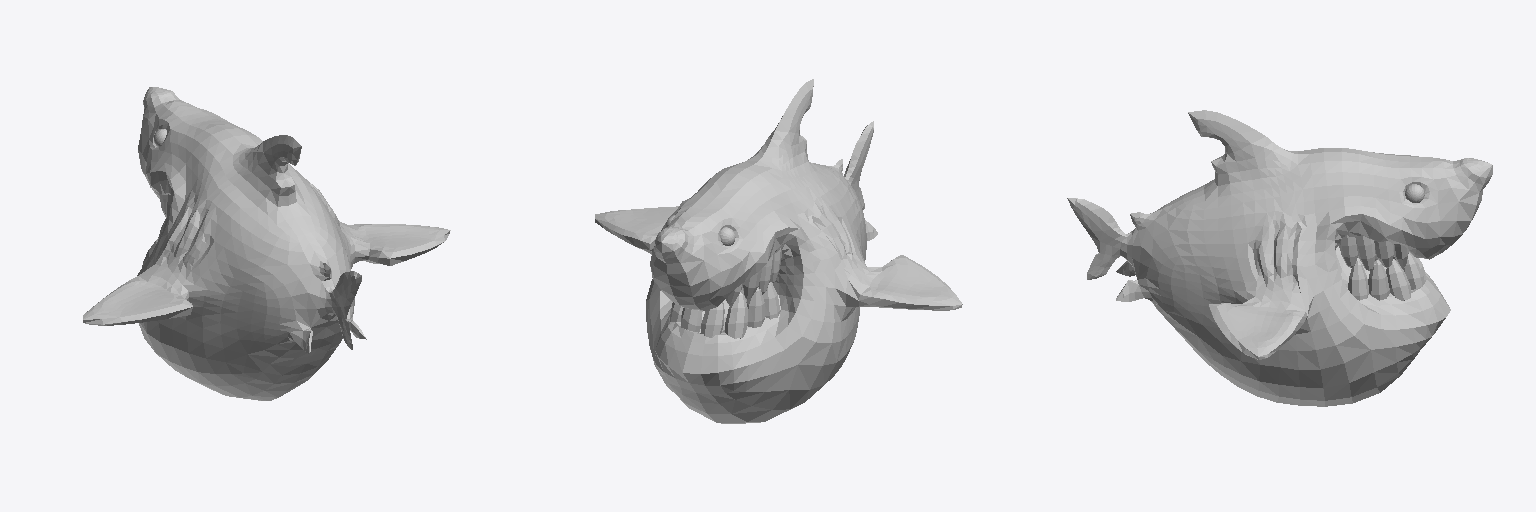
File: scruffyShark.obj
The picture shows the model from 3 angles: view 1: azimuth 30°, elevation 25°; view 2: azimuth 150°, elevation 25°; view 3: azimuth 270°, elevation 25°; orthographic projection.
Parts seen in each view (by area): view 1: body_GEO Geometry ScruffyShark; view 2: body_GEO Geometry ScruffyShark, Geometry ScruffyShark teeth_GEO tooth_bottom_2_L_GEO, Geometry ScruffyShark tooth_bottom_1_L_GEO teeth_GEO, Geometry ScruffyShark teeth_GEO tooth_bottom_3_L_GEO; view 3: body_GEO Geometry ScruffyShark, Geometry ScruffyShark teeth_GEO tooth_bottom_2_R_GEO, Geometry ScruffyShark teeth_GEO tooth_bottom_3_R_GEO, Geometry ScruffyShark teeth_GEO tooth_bottom_4_R_GEO.
Part boxes in pixels (x1,y1,x2,y2): body_GEO Geometry ScruffyShark: (83, 87, 450, 400); body_GEO Geometry ScruffyShark: (595, 79, 962, 423); Geometry ScruffyShark teeth_GEO tooth_bottom_2_L_GEO: (725, 292, 747, 338); Geometry ScruffyShark tooth_bottom_1_L_GEO teeth_GEO: (700, 302, 724, 337); Geometry ScruffyShark teeth_GEO tooth_bottom_3_L_GEO: (746, 287, 764, 327); body_GEO Geometry ScruffyShark: (1067, 110, 1492, 406); Geometry ScruffyShark teeth_GEO tooth_bottom_2_R_GEO: (1386, 259, 1411, 300); Geometry ScruffyShark teeth_GEO tooth_bottom_3_R_GEO: (1368, 260, 1389, 300); Geometry ScruffyShark teeth_GEO tooth_bottom_4_R_GEO: (1348, 260, 1368, 300).
Size of the model in its own units: 2.74 by 2.07 by 2.74.